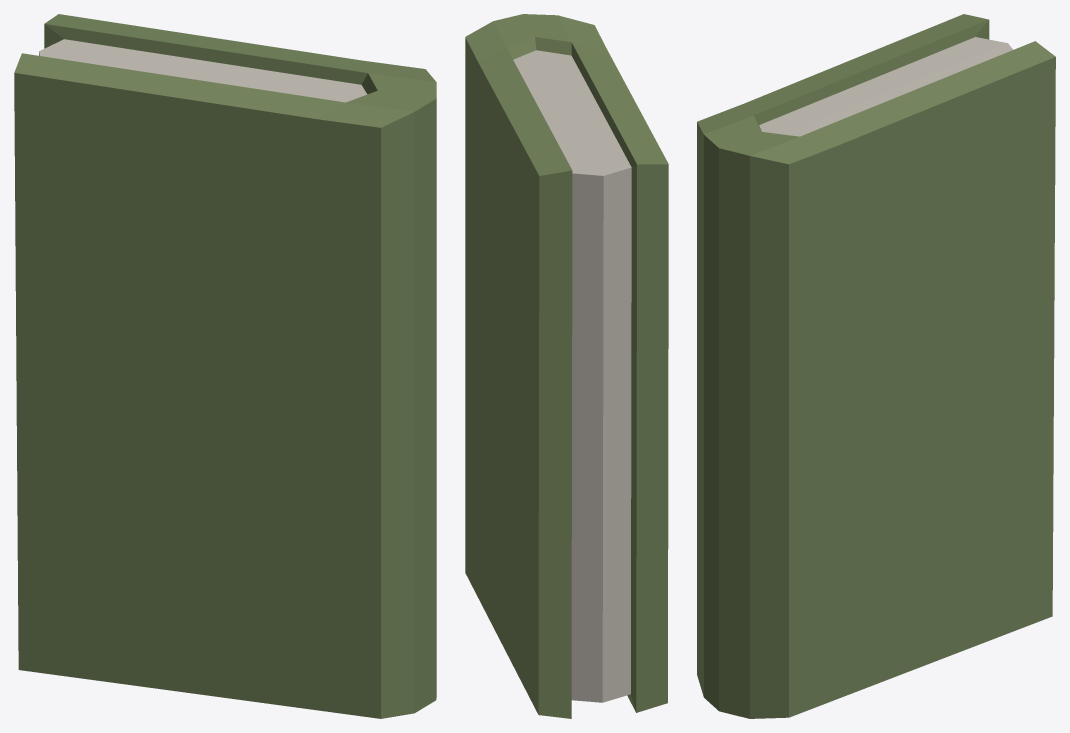
Rendered from book_1.fbx.
3 renders of one model, left to right at view 1: azimuth 30°, elevation 25°; view 2: azimuth 150°, elevation 25°; view 3: azimuth 270°, elevation 25°, orthographic. The views are drawn at different scales.
Visible parts, largest first — view 1: book1; view 2: book1; view 3: book1.
Boxes of the visible parts, x1=… form: book1: x1=14, y1=14, x2=436, y2=718; book1: x1=465, y1=14, x2=668, y2=718; book1: x1=697, y1=14, x2=1055, y2=718.
Bounding box in the file's own units: 0.2632 × 0.4801 × 0.2747.
